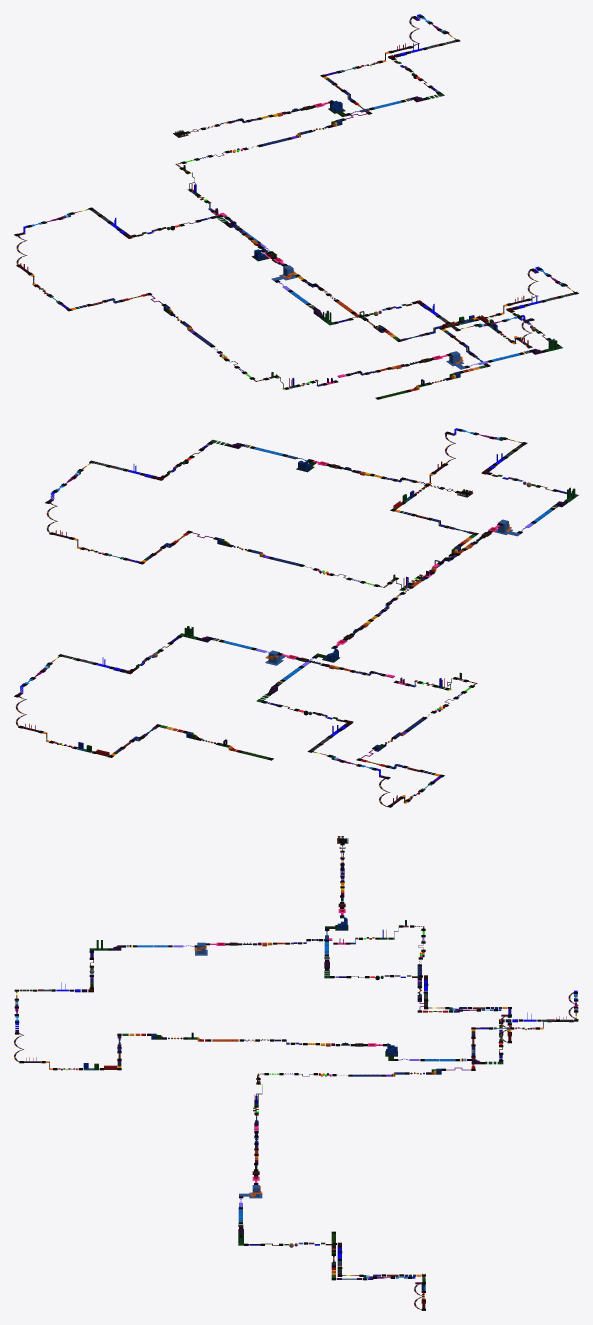
File: map3.obj
The picture shows the model from 3 angles, top to bottom: view 1: azimuth 30°, elevation 25°; view 2: azimuth 150°, elevation 25°; view 3: azimuth 270°, elevation 25°; orthographic projection. The views are drawn at different scales.
Bounding box in the file's own units: 2278 × 1528 × 2584.
